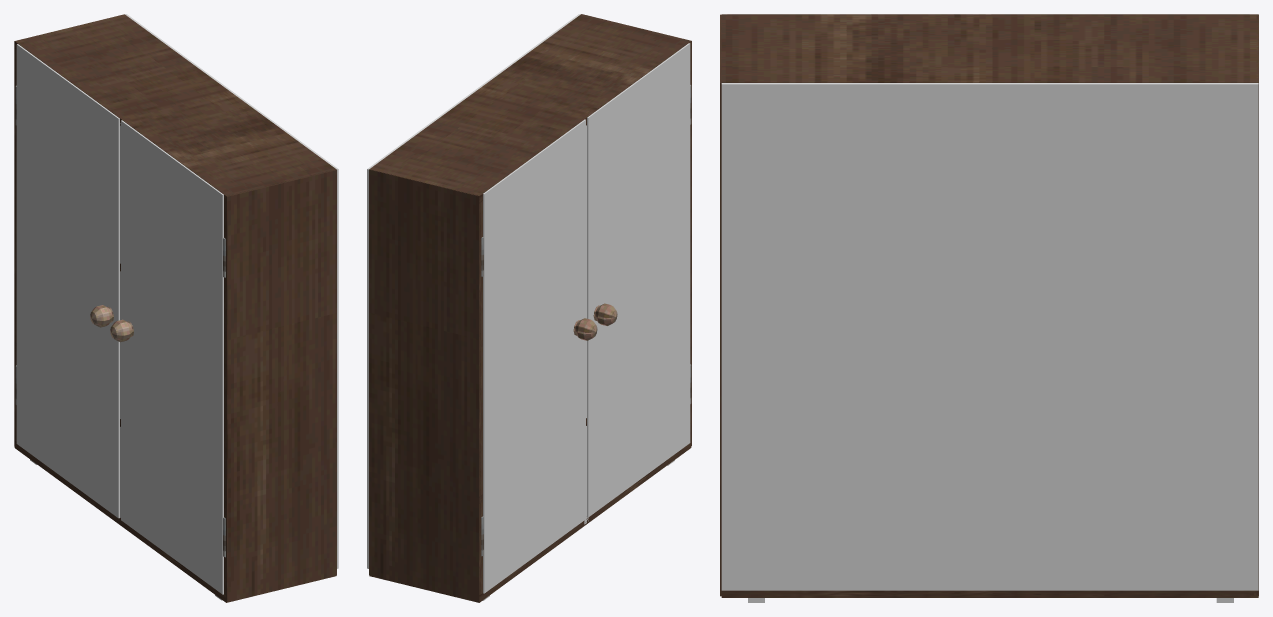
The model's file is SHKAF.fbx.
3 views of the same model, side by side, from view 1: azimuth 30°, elevation 25°; view 2: azimuth 150°, elevation 25°; view 3: azimuth 270°, elevation 25° (orthographic). The views are drawn at different scales.
Visible parts, largest first — view 1: Cube.014, Cube.016, Cube.017; view 2: Cube.014, Cube.017, Cube.016; view 3: Cube.014.
Part boxes in pixels (x1,y1,x2,y2): Cube.014: (14, 14, 338, 602); Cube.016: (110, 120, 225, 594); Cube.017: (15, 44, 119, 518); Cube.014: (367, 14, 691, 602); Cube.017: (481, 119, 597, 593); Cube.016: (587, 43, 691, 517); Cube.014: (720, 14, 1258, 602).
Bounding box in the file's own units: 349 × 1045 × 974.
